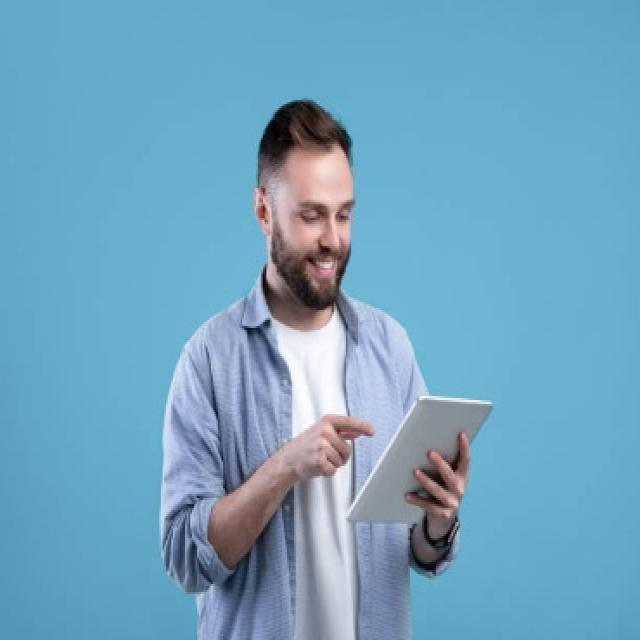adult: (162, 96, 489, 640)
